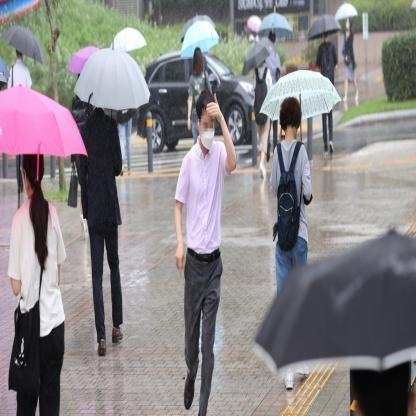Umbrella: (220, 220, 416, 380), (3, 66, 92, 182), (256, 64, 352, 147), (73, 29, 158, 116), (0, 14, 54, 74), (180, 18, 224, 80), (106, 18, 152, 62), (61, 38, 110, 78), (175, 2, 219, 43), (258, 7, 300, 48), (304, 10, 342, 44), (332, 0, 362, 29), (246, 8, 266, 34)
